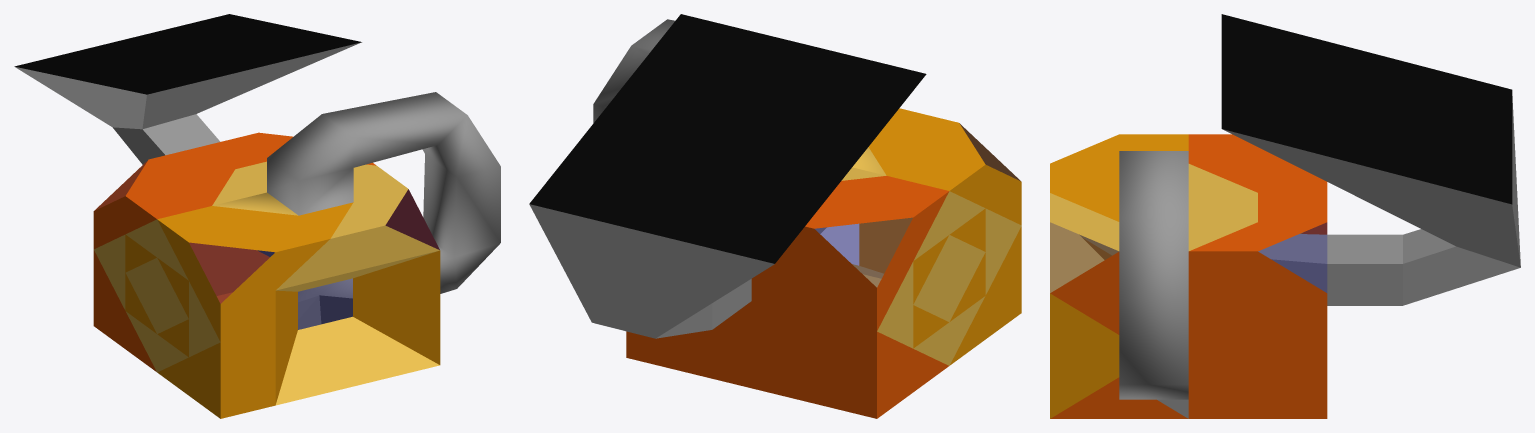
Rendered from powerplant.glb.
The picture shows the model from 3 angles, left to right: view 1: azimuth 30°, elevation 25°; view 2: azimuth 150°, elevation 25°; view 3: azimuth 270°, elevation 25°; orthographic projection. The views are drawn at different scales.
Visible parts, largest first — view 1: plant; view 2: plant; view 3: plant.
Part boxes in pixels (bbox=[...]): plant: bbox=[14, 14, 500, 418]; plant: bbox=[529, 14, 1021, 418]; plant: bbox=[1050, 14, 1520, 418].
Size of the model in its own units: 85.22 by 69.34 by 102.
